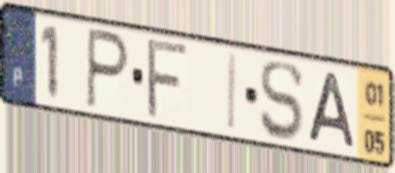1: (38, 24, 61, 102)
A: (305, 69, 359, 152)
F: (144, 37, 192, 123)
I: (225, 50, 240, 136)
P: (84, 24, 132, 114)
S: (258, 60, 306, 144)
